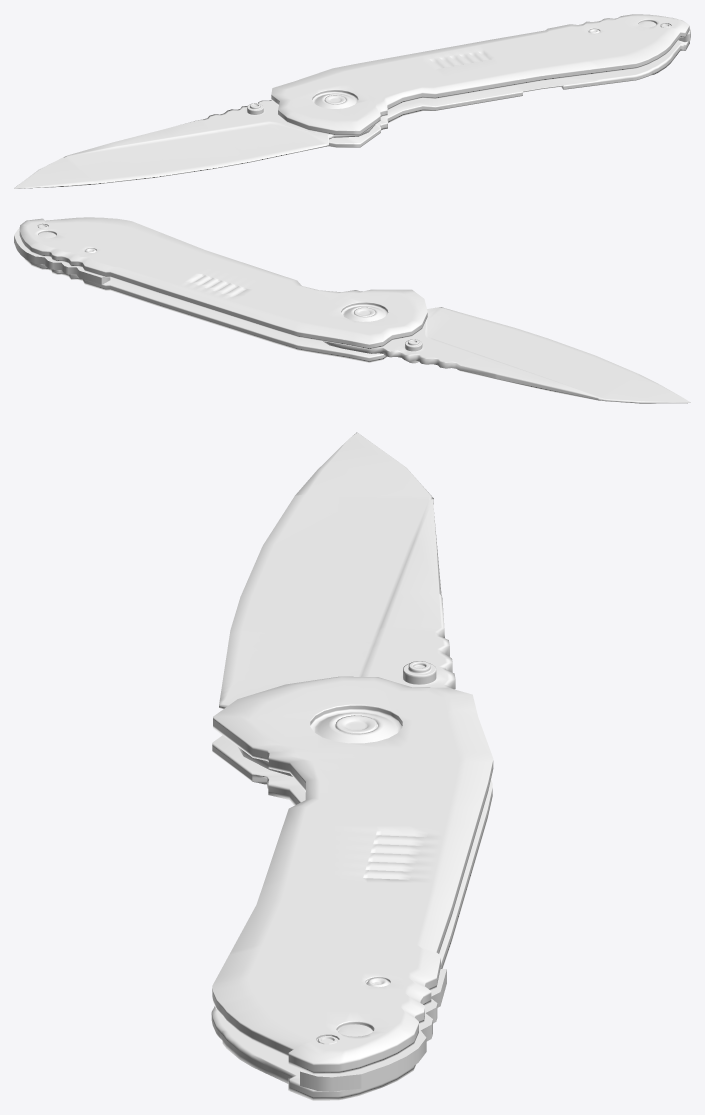
3 renders of one model, top to bottom at view 1: azimuth 30°, elevation 25°; view 2: azimuth 150°, elevation 25°; view 3: azimuth 270°, elevation 25°, orthographic. The views are drawn at different scales.
Visible parts, largest first — view 1: pCube1.001, pCube2.001, pasted__pCube1.001; view 2: pCube1.001, pCube2.001, pasted__pCube1.001, pCube4.001; view 3: pCube1.001, pCube2.001, pasted__pCube1.001, pCube4.001.
Boxes of the visible parts, x1,y1,x2,y2 form: pCube1.001: (271,14,689,135); pCube2.001: (14,100,374,188); pasted__pCube1.001: (328,40,689,147); pCube1.001: (19,217,427,349); pCube2.001: (323,307,690,403); pasted__pCube1.001: (23,257,386,362); pCube4.001: (14,228,110,284); pCube1.001: (212,676,493,1074); pCube2.001: (219,432,455,776); pasted__pCube1.001: (211,735,492,1100); pCube4.001: (300,969,446,1091).
Size of the model in its own units: 325 by 13.84 by 59.33.
Materials: 6 (6 with a texture image).
